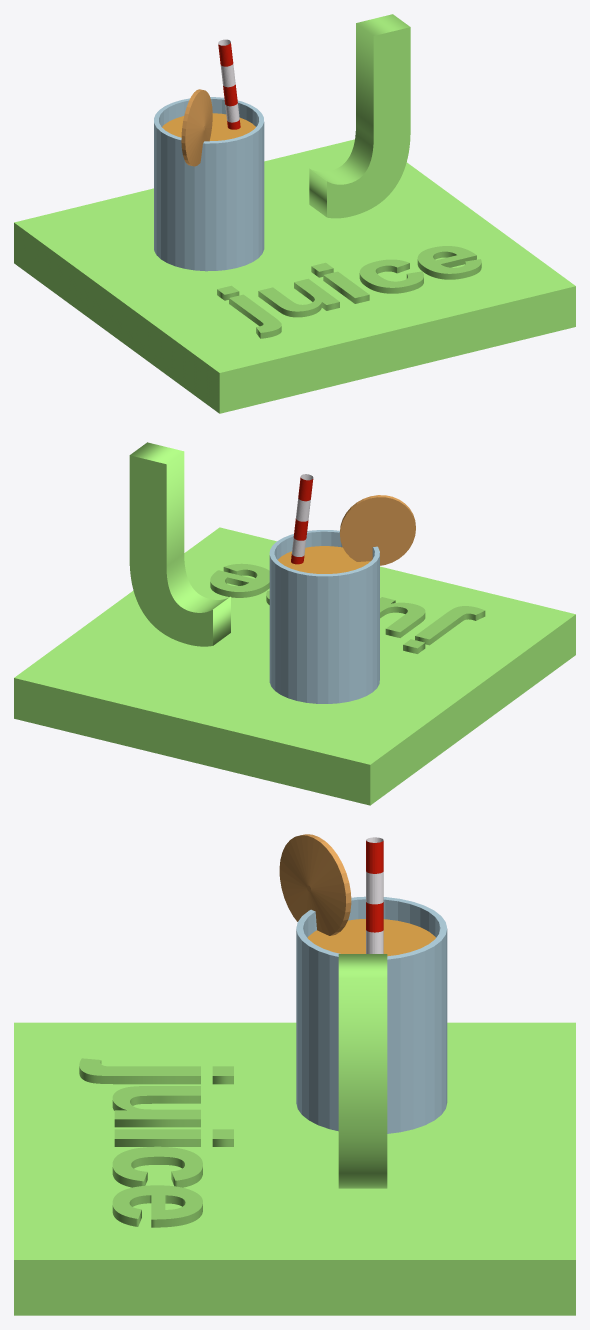
Rendered from jletter.glb.
3 renders of one model, top to bottom at view 1: azimuth 30°, elevation 25°; view 2: azimuth 150°, elevation 25°; view 3: azimuth 270°, elevation 25°, orthographic. The views are drawn at different scales.
Parts seen in each view (by area): view 1: Cube.022, Cylinder, Text.003, Text.002; view 2: Cube.022, Cylinder, Text.003, Text.002; view 3: Cube.022, Cylinder, Text.002, Text.003.
Boxes of the visible parts, x1,y1,x2,y2 form: Cube.022: (14,139,575,413); Cylinder: (154,39,264,271); Text.003: (309,14,410,218); Text.002: (217,246,481,338); Cube.022: (14,527,575,805); Cylinder: (269,474,415,703); Text.003: (129,442,230,646); Text.002: (210,563,485,653); Cube.022: (14,1022,575,1315); Cylinder: (279,834,447,1133); Text.002: (79,1058,233,1227); Text.003: (338,954,387,1188).
Bounding box in the file's own units: 0.3237 × 0.2099 × 0.3237.
